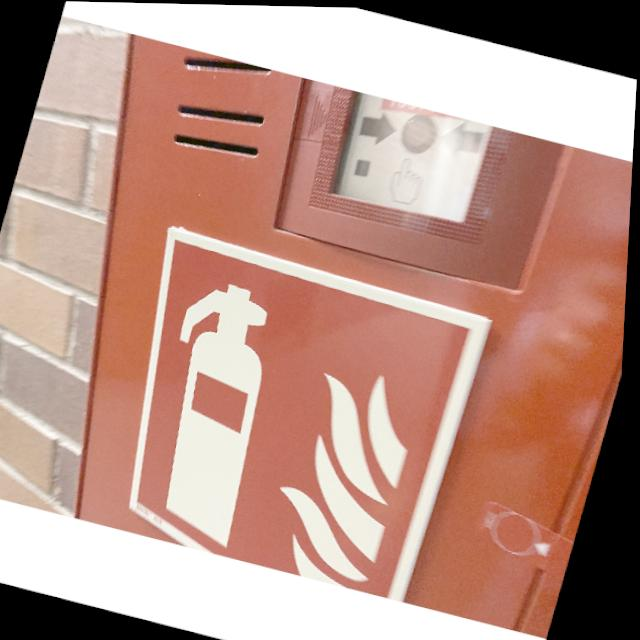fire extinguisher: (86, 222, 501, 603)
